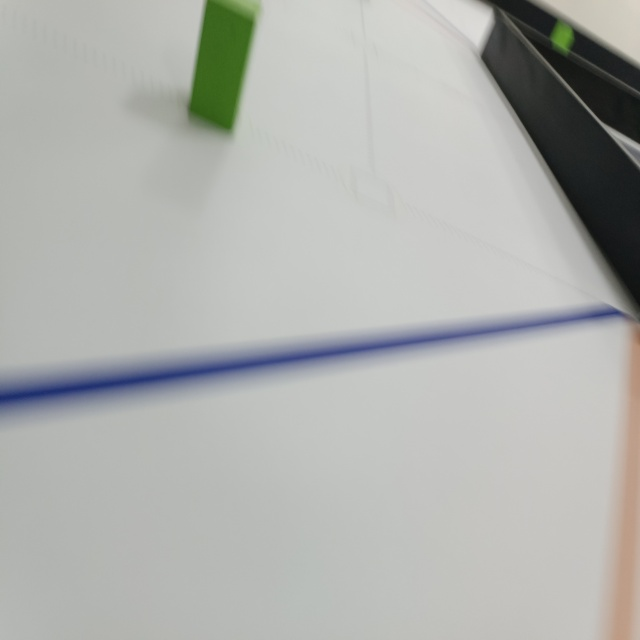blue line: (0, 304, 628, 415)
green rectangular prism: (182, 0, 259, 133)
orange line: (607, 319, 640, 640)
